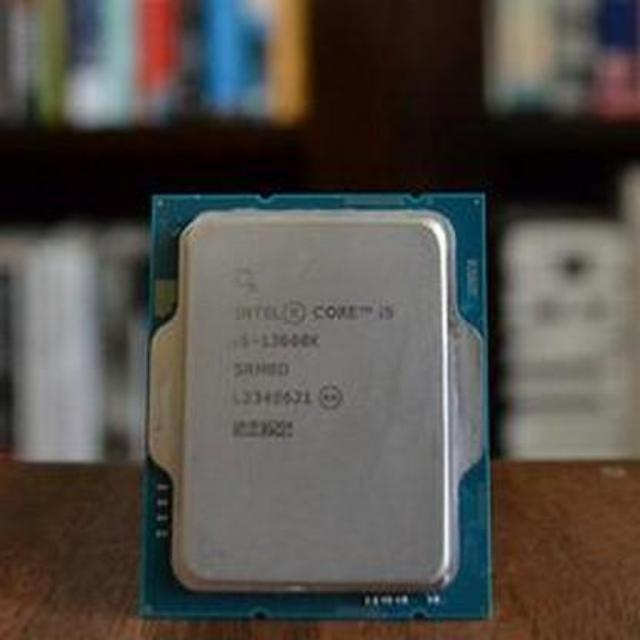CPU: (144, 190, 493, 612)
